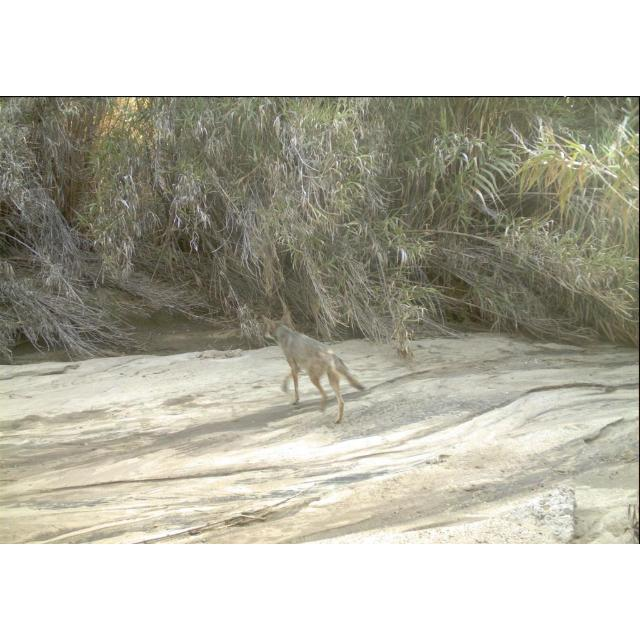animals: (263, 308, 375, 427)
